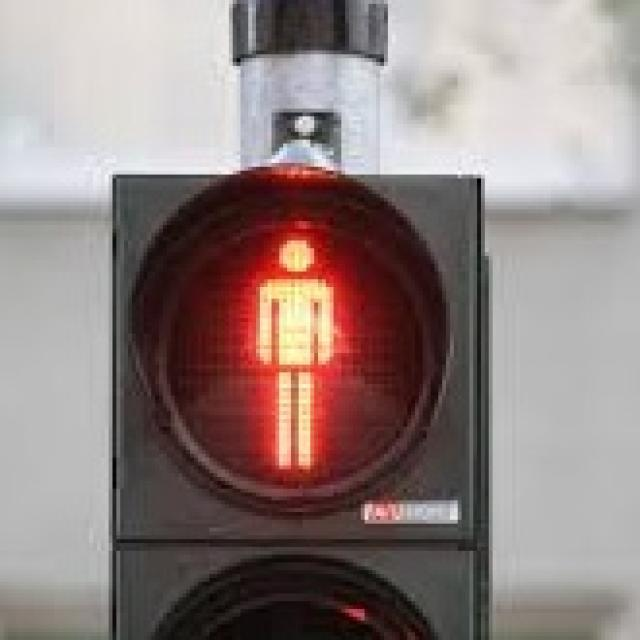red-crossing: (206, 206, 380, 474)
